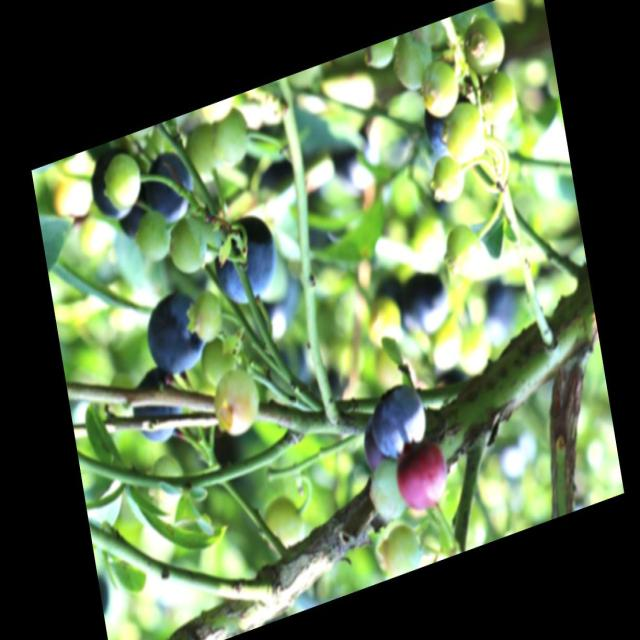blueberry: (206, 202, 283, 314), (141, 282, 209, 383), (126, 359, 186, 450), (366, 376, 428, 464), (83, 143, 142, 227), (142, 146, 197, 230), (394, 265, 453, 341), (420, 100, 452, 162), (358, 412, 389, 473)
blueberry-unripe: (394, 438, 451, 517), (209, 360, 265, 440), (458, 13, 508, 83), (440, 95, 488, 166), (371, 519, 425, 581), (165, 208, 211, 278), (414, 55, 462, 122), (259, 486, 304, 554), (390, 29, 436, 93), (474, 68, 519, 130), (440, 215, 482, 281), (366, 462, 408, 525), (210, 106, 250, 169), (190, 287, 227, 349), (427, 152, 465, 206), (133, 212, 170, 266), (367, 37, 395, 70)
